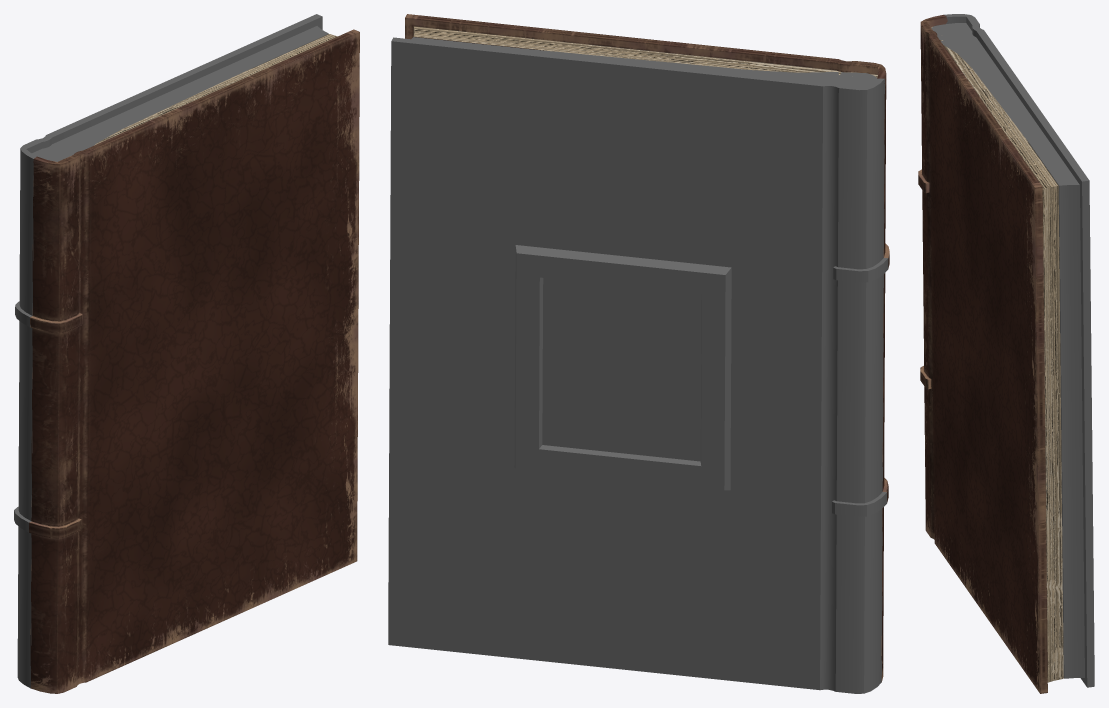
The model's file is Knyga_Full_FBX2.fbx.
3 views of the same model, side by side, from view 1: azimuth 30°, elevation 25°; view 2: azimuth 150°, elevation 25°; view 3: azimuth 270°, elevation 25° (orthographic). The views are drawn at different scales.
Parts seen in each view (by area): view 1: polySurface4, polySurface3; view 2: polySurface3, polySurface4; view 3: polySurface4, polySurface3.
Part boxes in pixels (box(x1,y1,x2,y2)): polySurface4: box(29, 29, 359, 693); polySurface3: box(14, 14, 328, 688); polySurface3: box(388, 37, 888, 693); polySurface4: box(405, 14, 889, 681); polySurface4: box(918, 14, 1063, 693); polySurface3: box(931, 14, 1094, 687).
Size of the model in its own units: 38.3 by 51.46 by 16.23.
Materials: 2 (1 with a texture image).
